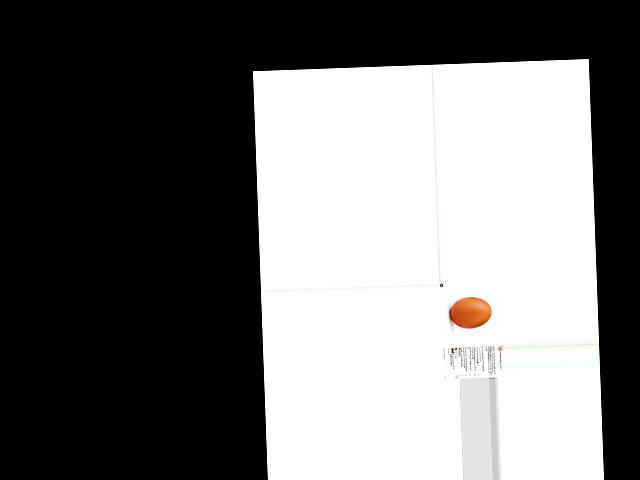egg: (449, 296, 491, 329)
